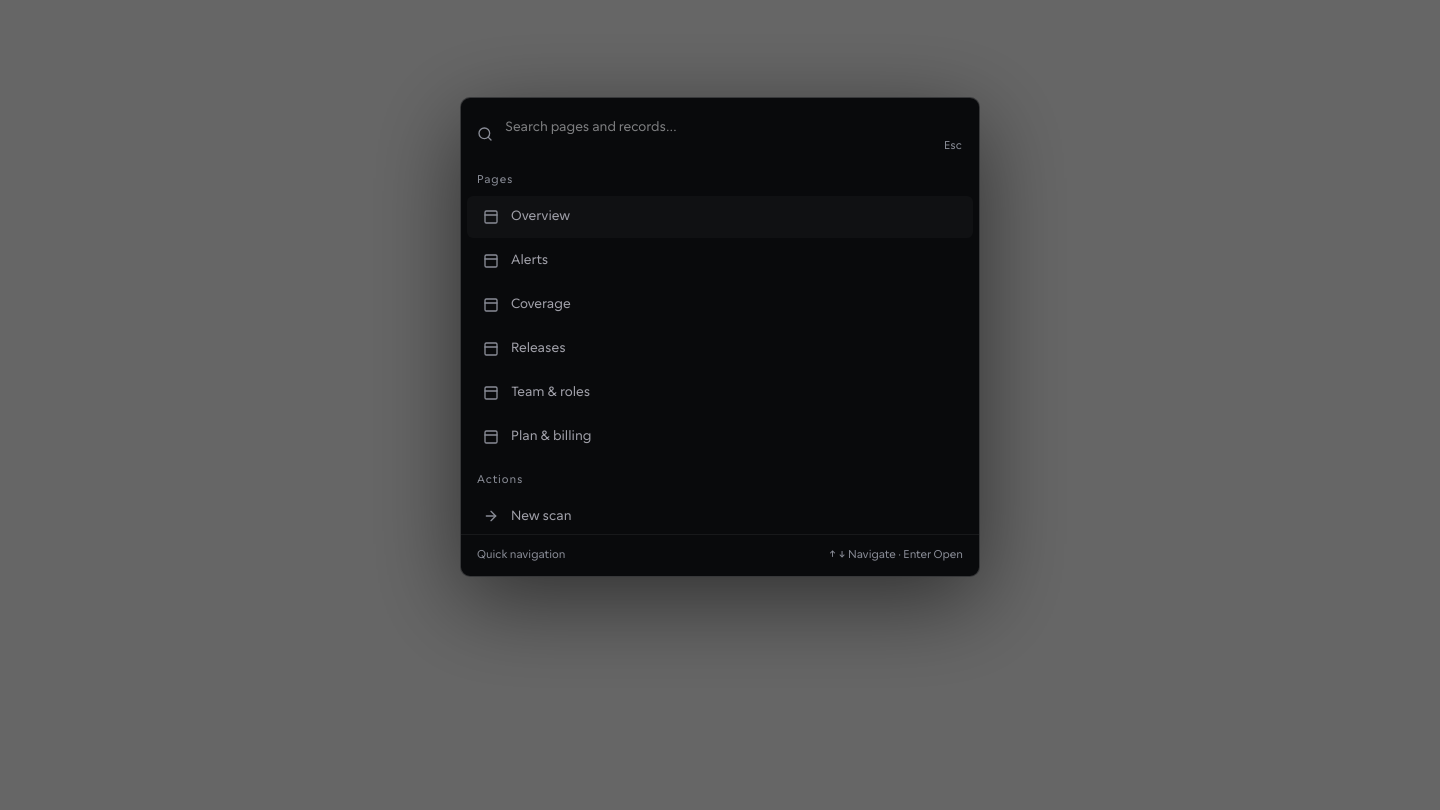
Test: opens in place and lets users clear a query without losing keyboard focus
This screenshot has width=1440, height=810.
Expected: the text "Pages" is shown, top-left (477, 173), bottom-right (513, 186)
Expected: the text "Actions" is shown, top-left (477, 473), bottom-right (523, 486)
Type "billing" into the dropdown at (720,126), box top-left (461, 98), bottom-right (979, 154)
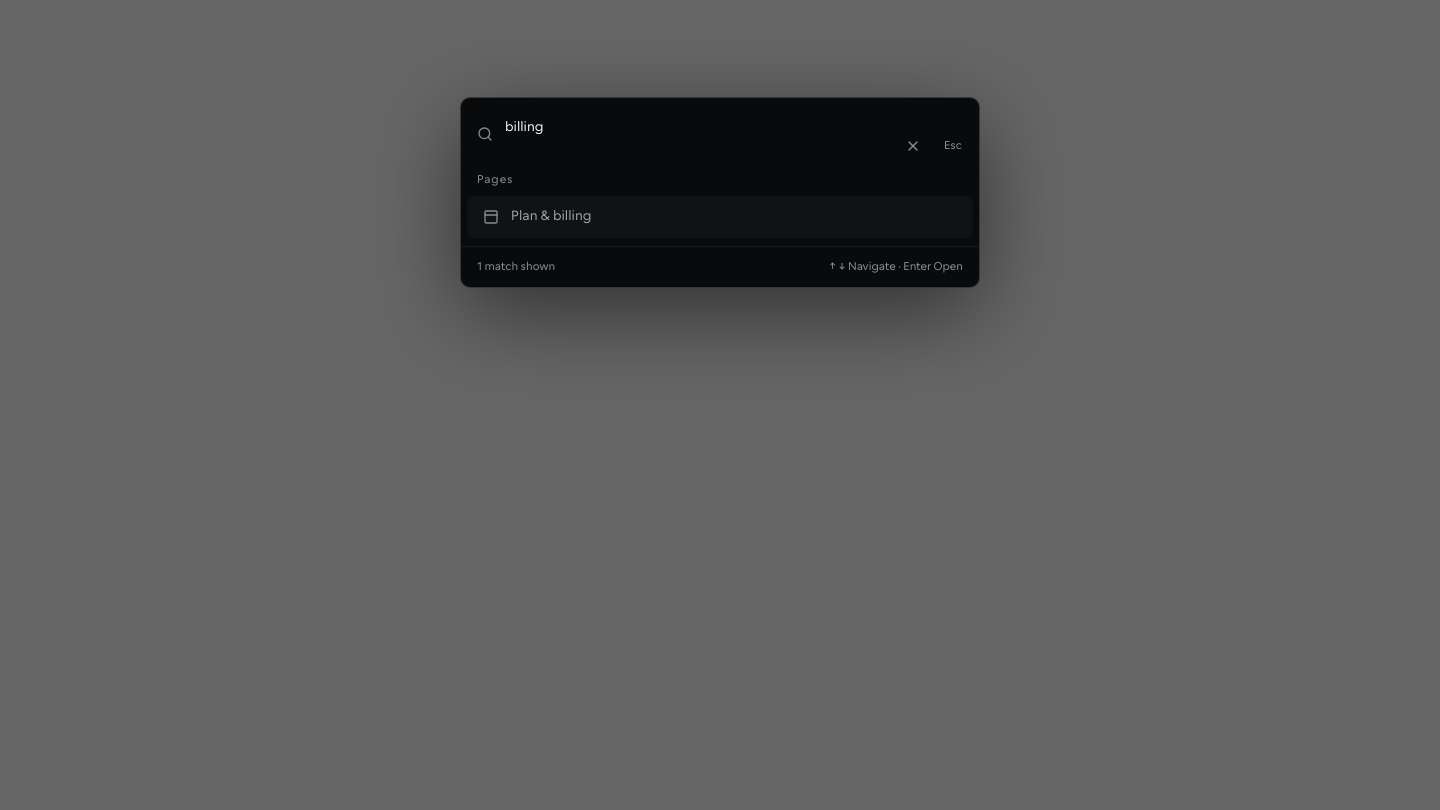
Expected: the option "Plan & billing" is shown, top-left (467, 196), bottom-right (973, 238)
Expected: the message reads "1 match shown", top-left (477, 260), bottom-right (555, 273)
Click the button named "Clear search" at (913,146), box top-left (895, 126), bottom-right (931, 166)
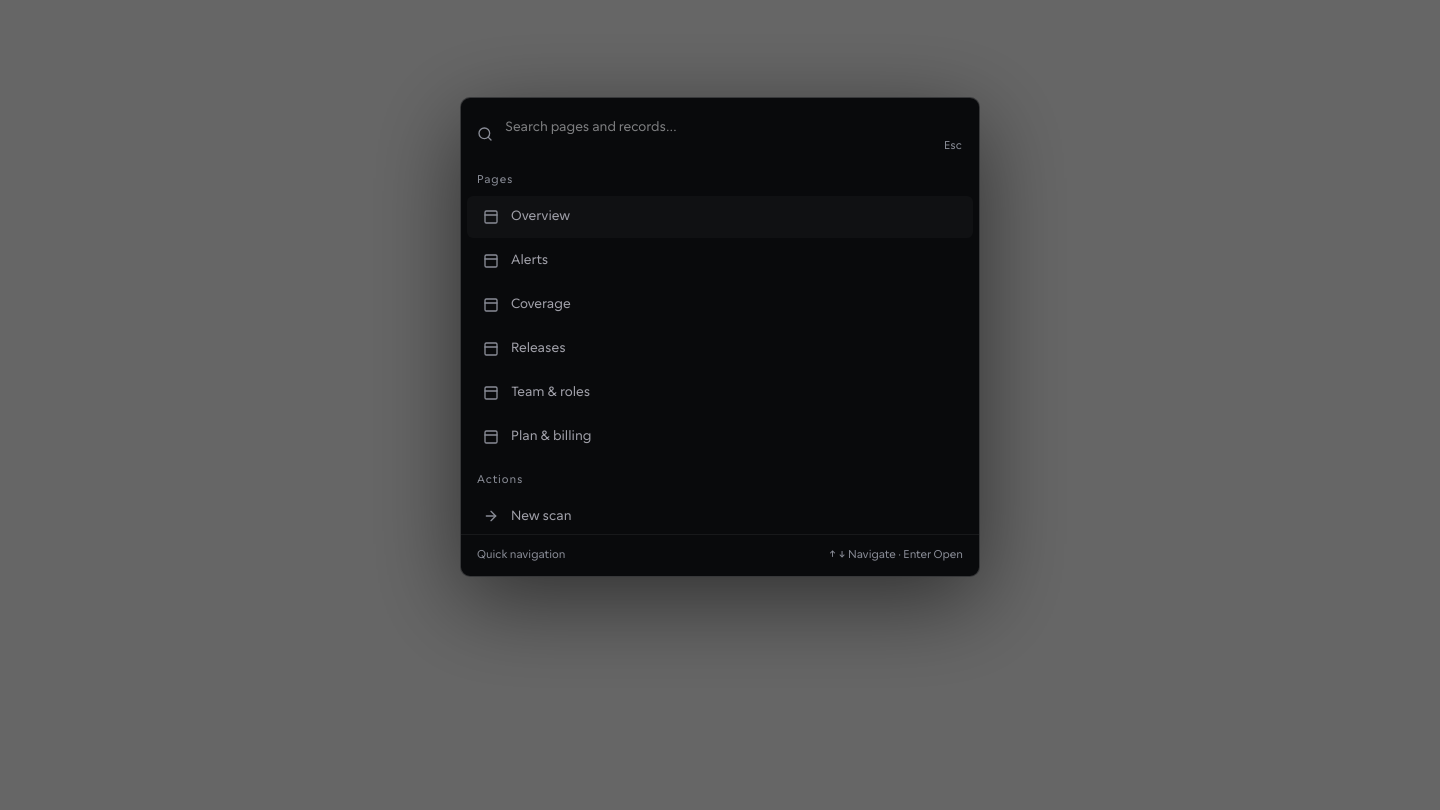
Expected: the dropdown is empty, top-left (461, 98), bottom-right (979, 154)
Expected: the option "New scan" is shown, top-left (467, 495), bottom-right (973, 534)
